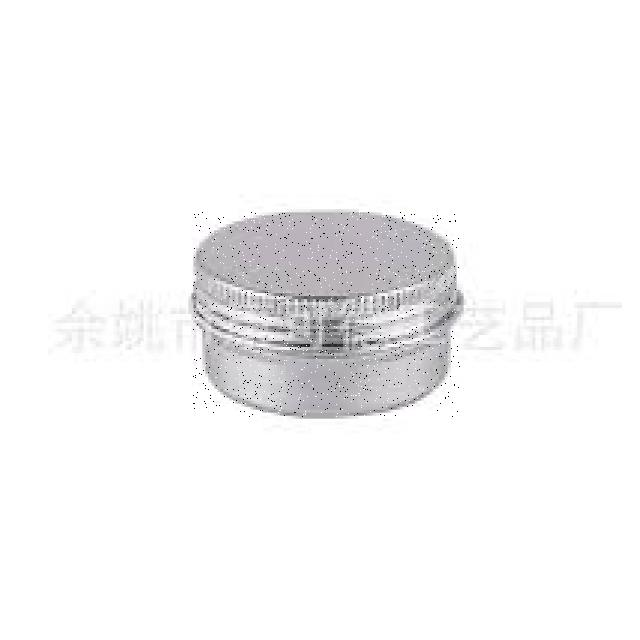metal: (194, 213, 460, 417)
